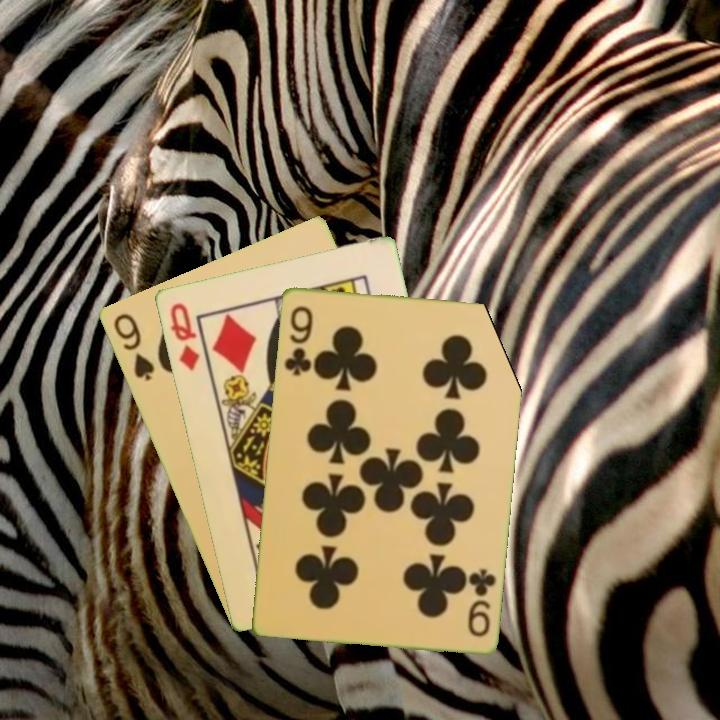9c: (280, 302, 316, 378), (464, 565, 498, 639)
9s: (109, 309, 157, 383)
Qd: (166, 299, 202, 374)
